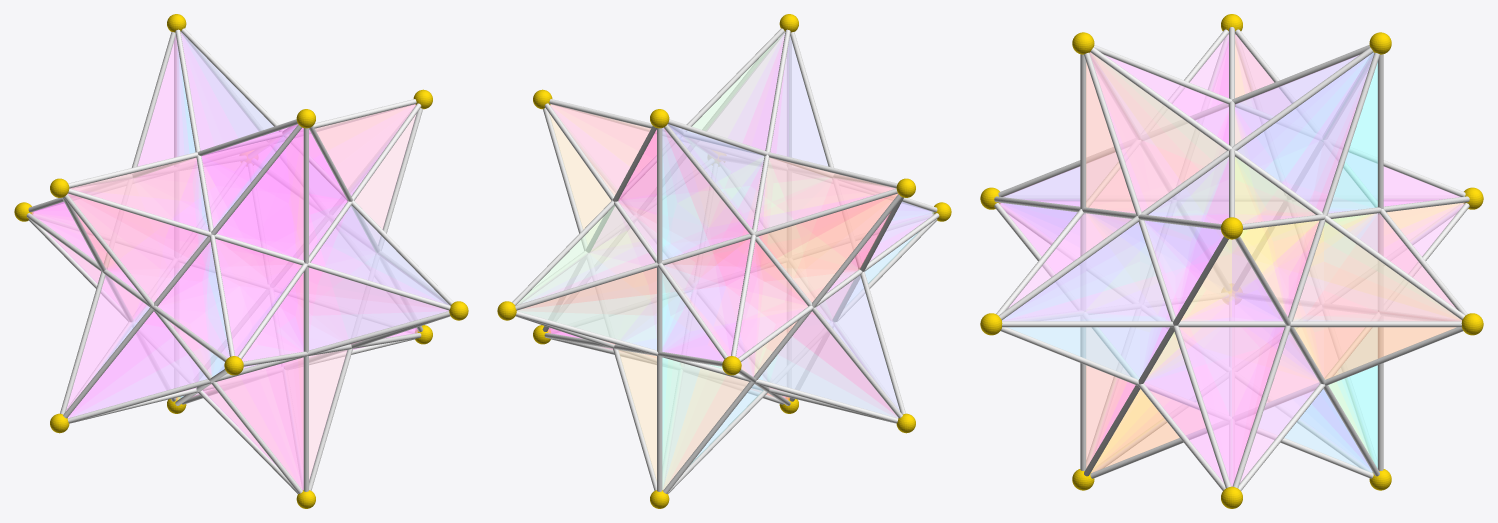
3 views of the same model, side by side, from view 1: azimuth 30°, elevation 25°; view 2: azimuth 150°, elevation 25°; view 3: azimuth 270°, elevation 25° (orthographic). The views are drawn at different scales.
Parts seen in each view (by area): view 1: Cristal_2, Cristal_15, Cristal_9, Cristal_18, Cristal_12, Cristal_5, Cristal_3, Cristal_4, Cristal_0.002, Cristal_14, Cristal_17, Cristal_7 (+27 smaller); view 2: Cristal_10, Cristal_7, Cristal_1.002, Cristal_18, Cristal_4, Cristal_13, Cristal_11, Cristal_12, Cristal_8, Cristal_6, Cristal_17, Cristal_15 (+27 smaller); view 3: Cristal_8, Cristal_0.002, Cristal_11, Cristal_3, Cristal_16, Cristal_1.002, Cristal_9, Cristal_14, Cristal_6, Cristal_13, Cristal_5, Cristal_19 (+32 smaller).
Part boxes in pixels (x1,y1,x2,y2): Cristal_2: (66,32,448,417); Cristal_15: (68,104,416,489); Cristal_9: (32,124,303,489); Cristal_18: (32,104,415,357); Cristal_12: (68,128,417,417); Cristal_5: (68,194,447,399); Cristal_3: (181,33,417,361); Cristal_4: (66,37,184,410); Cristal_0.002: (181,33,448,394); Cristal_14: (51,115,415,478); Cristal_17: (72,311,445,416); Cristal_7: (71,105,412,267); Cristal_10: (517,32,899,417); Cristal_7: (549,104,897,489); Cristal_1.002: (662,124,933,489); Cristal_18: (550,104,933,357); Cristal_4: (548,128,897,417); Cristal_13: (518,194,897,399); Cristal_11: (548,33,784,361); Cristal_12: (781,37,899,410); Cristal_8: (517,33,784,394); Cristal_6: (550,115,914,478); Cristal_17: (520,311,893,416); Cristal_15: (553,105,894,267); Cristal_8: (1086,52,1461,472); Cristal_0.002: (1002,52,1377,472); Cristal_11: (1090,53,1464,486); Cristal_3: (999,53,1373,486); Cristal_16: (1002,34,1461,320); Cristal_1.002: (1005,56,1377,466); Cristal_9: (1086,56,1458,466); Cristal_14: (1092,203,1463,470); Cristal_6: (1000,203,1371,470); Cristal_13: (1091,34,1454,472); Cristal_5: (1009,34,1372,472); Cristal_19: (1000,204,1463,480).
Bounding box in the file's own units: 6.77 × 6.77 × 6.77.
